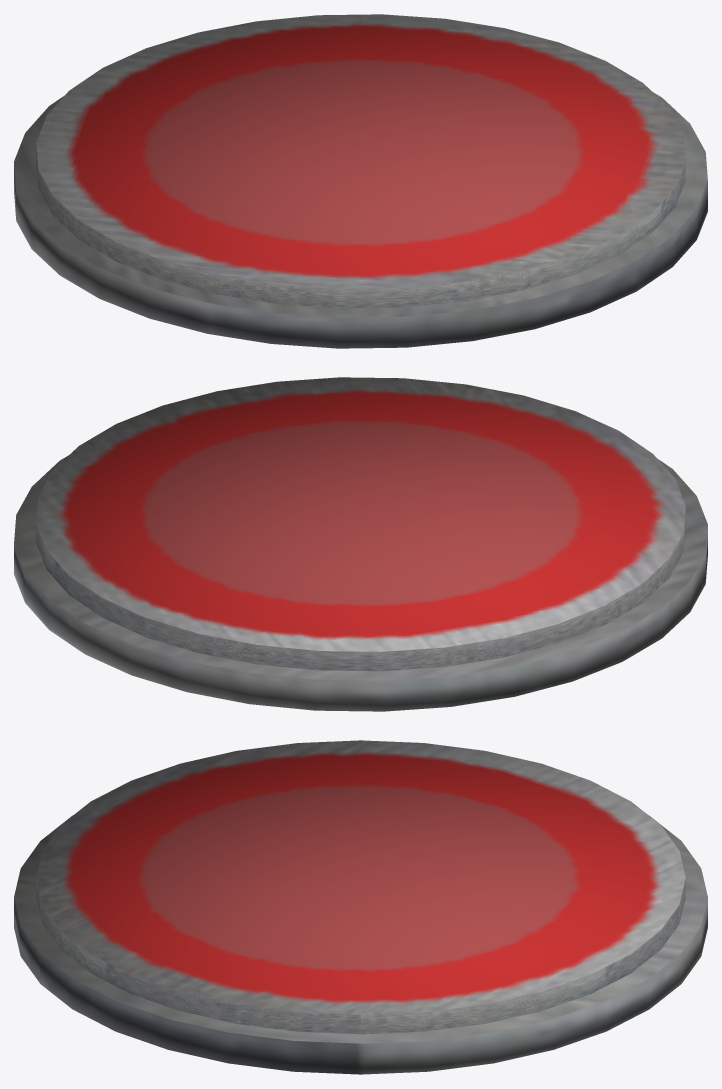
The model's file is Spring.glb.
3 renders of one model, top to bottom at view 1: azimuth 30°, elevation 25°; view 2: azimuth 150°, elevation 25°; view 3: azimuth 270°, elevation 25°, orthographic.
Visible parts, largest first — view 1: Cylinder; view 2: Cylinder; view 3: Cylinder.
Boxes of the visible parts, left/top/right/bottom form: Cylinder: left=14, top=14, right=707, bottom=348; Cylinder: left=14, top=377, right=707, bottom=711; Cylinder: left=14, top=740, right=707, bottom=1074.
Size of the model in its own units: 1.86 by 0.1486 by 1.86.
1 material, 1 textured.
